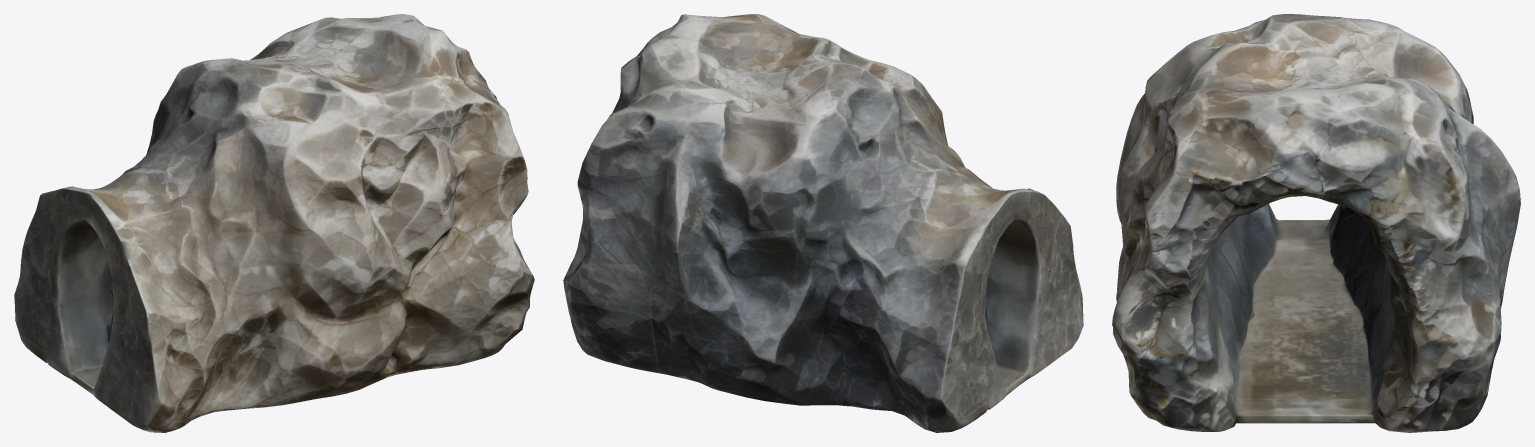
Rendered from enterTunnel.fbx.
3 renders of one model, left to right at view 1: azimuth 30°, elevation 25°; view 2: azimuth 150°, elevation 25°; view 3: azimuth 270°, elevation 25°, orthographic. The views are drawn at different scales.
Parts seen in each view (by area): view 1: tripo_node_cfb6a2f0; view 2: tripo_node_cfb6a2f0; view 3: tripo_node_cfb6a2f0.
Part boxes in pixels (x1,y1,x2,y2): tripo_node_cfb6a2f0: (14, 14, 534, 432); tripo_node_cfb6a2f0: (563, 14, 1083, 432); tripo_node_cfb6a2f0: (1112, 14, 1520, 432).
Bounding box in the file's own units: 1 × 0.6995 × 0.8138.
Materials: 1 (1 with a texture image).
